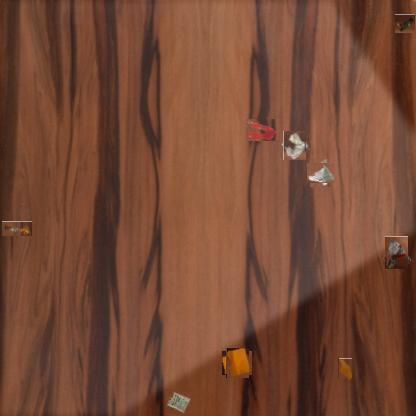dirty: (382, 239, 411, 267), (282, 132, 308, 159), (224, 350, 250, 377), (166, 389, 191, 415), (308, 161, 332, 185), (2, 221, 32, 236), (395, 14, 416, 34)
liquid: (247, 119, 278, 141), (338, 358, 352, 379)
